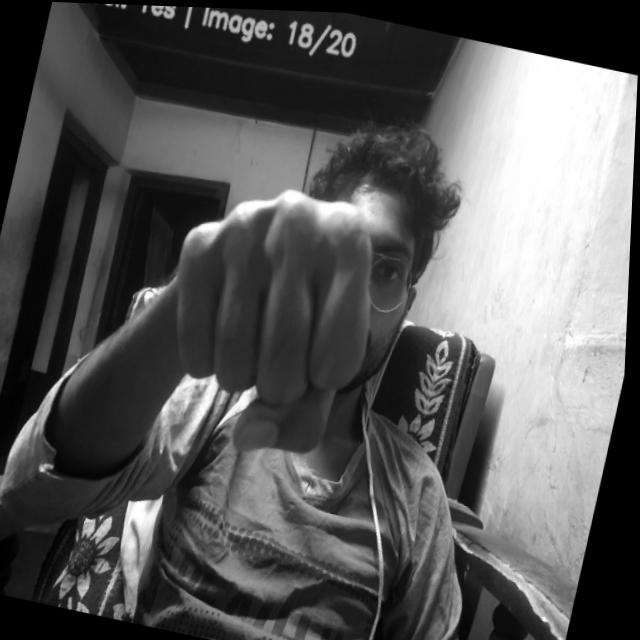Yes: (148, 168, 398, 472)
